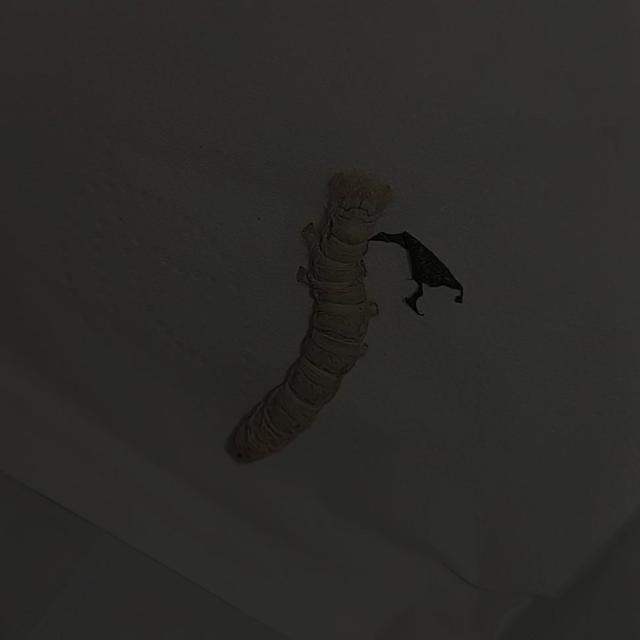Healthy: (190, 145, 424, 489)
